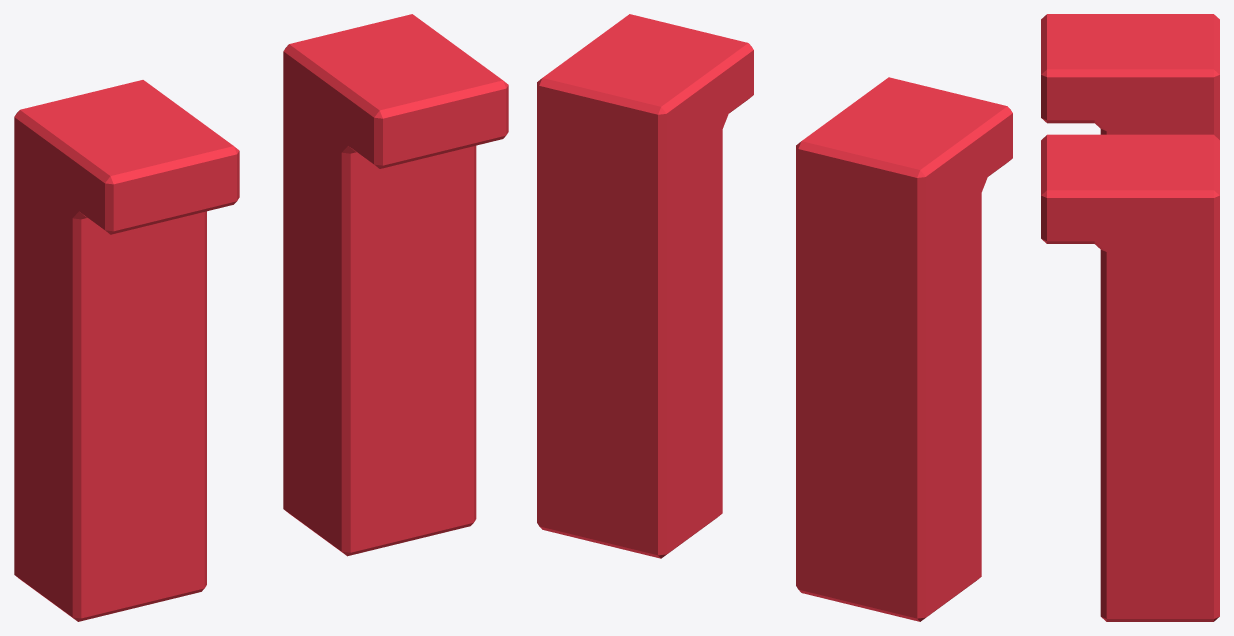
Rendered from Side_Decor_1.fbx.
3 views of the same model, side by side, from view 1: azimuth 30°, elevation 25°; view 2: azimuth 150°, elevation 25°; view 3: azimuth 270°, elevation 25° (orthographic). The views are drawn at different scales.
Visible parts, largest first — view 1: Side_Decor_1; view 2: Side_Decor_1; view 3: Side_Decor_1.
Boxes of the visible parts, x1,y1,x2,y2 form: Side_Decor_1: (14, 14, 508, 621); Side_Decor_1: (537, 14, 1012, 621); Side_Decor_1: (1041, 14, 1219, 621).
Size of the model in its own units: 13.5 by 15 by 5.63.
